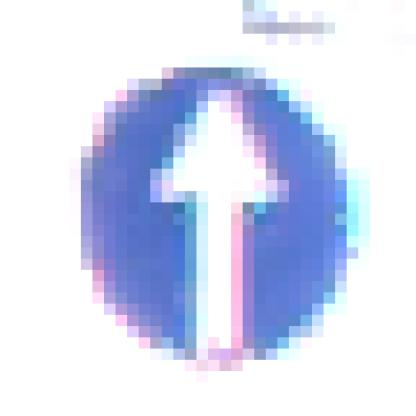AheadOnly: (59, 57, 359, 361)
